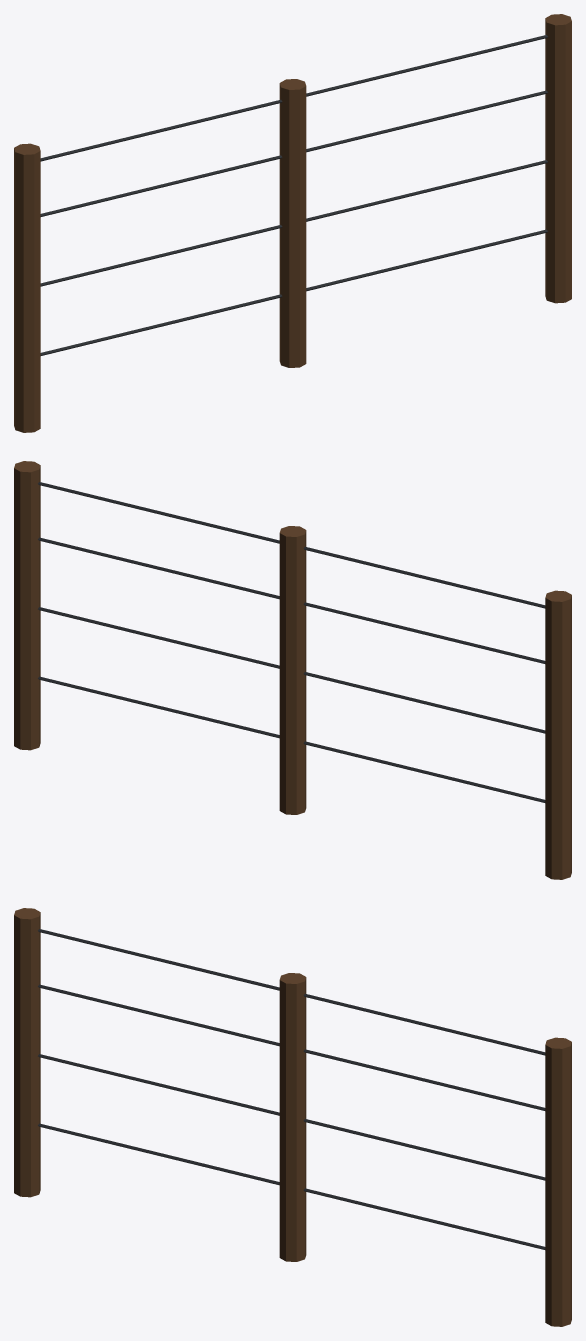
File: alambrado.glb
3 renders of one model, top to bottom at view 1: azimuth 30°, elevation 25°; view 2: azimuth 150°, elevation 25°; view 3: azimuth 330°, elevation 25°, orthographic.
Visible parts, largest first — view 1: alambrado; view 2: alambrado; view 3: alambrado.
Part boxes in pixels (x1,y1,x2,y2): alambrado: (14,14,571,432); alambrado: (14,461,571,879); alambrado: (14,908,571,1326).
Size of the model in its own units: 2.09 by 1 by 0.09.
